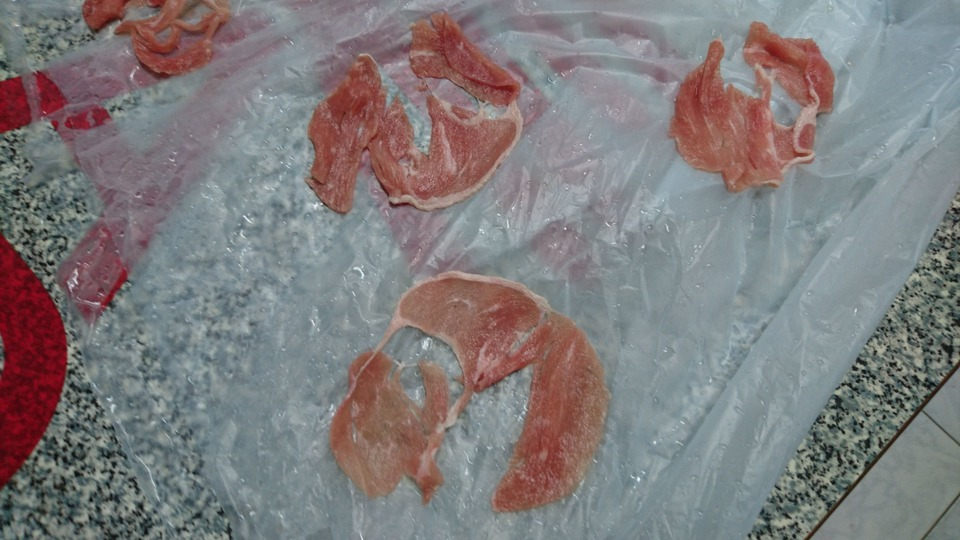restructured meat: (328, 266, 610, 505), (311, 13, 526, 216), (668, 21, 845, 193), (84, 1, 282, 77)
